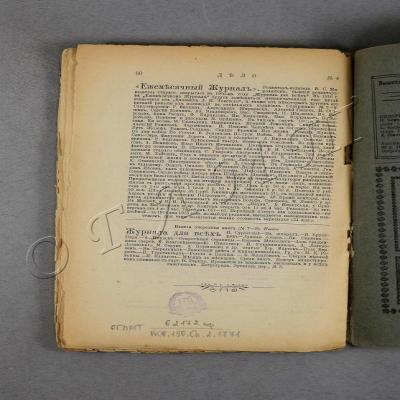rare_books: (61, 44, 400, 350)
